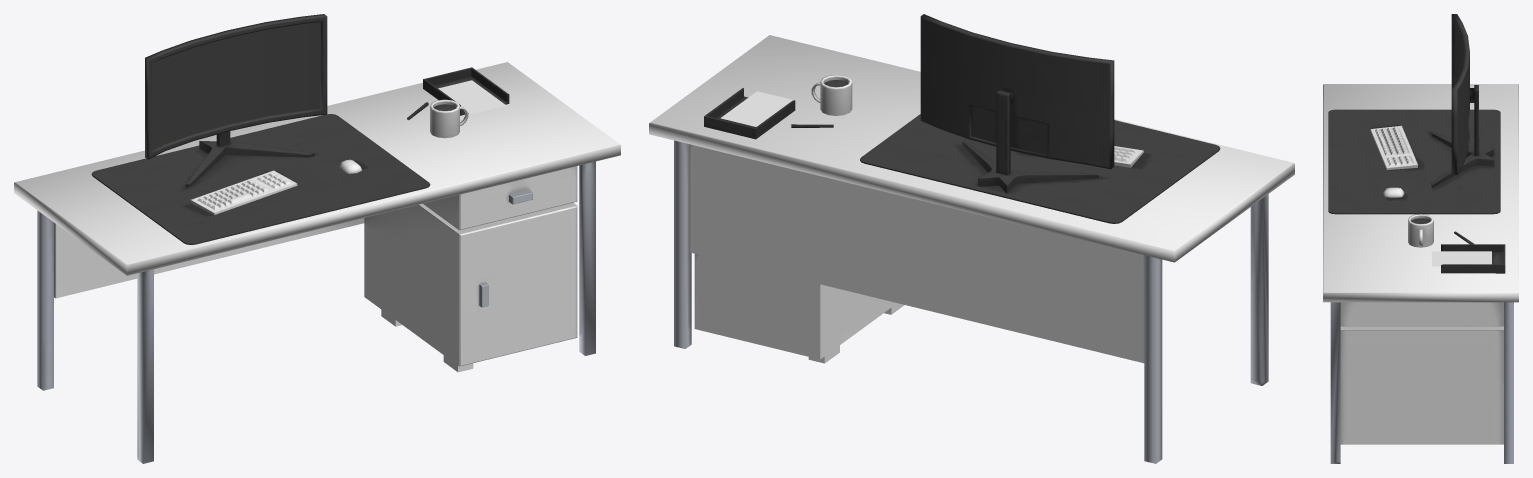
Rendered from desk_off.glb.
3 renders of one model, left to right at view 1: azimuth 30°, elevation 25°; view 2: azimuth 150°, elevation 25°; view 3: azimuth 270°, elevation 25°, orthographic. The views are drawn at different scales.
Visible parts, largest first — view 1: table.004_desk_0; view 2: table.004_desk_0; view 3: table.004_desk_0.
Boxes of the visible parts, <box> form: table.004_desk_0: <box>14,14,620,463</box>; table.004_desk_0: <box>649,14,1294,463</box>; table.004_desk_0: <box>1323,14,1518,463</box>.
Size of the model in its own units: 1.72 by 1.12 by 0.6829.
1 material, 1 textured.
